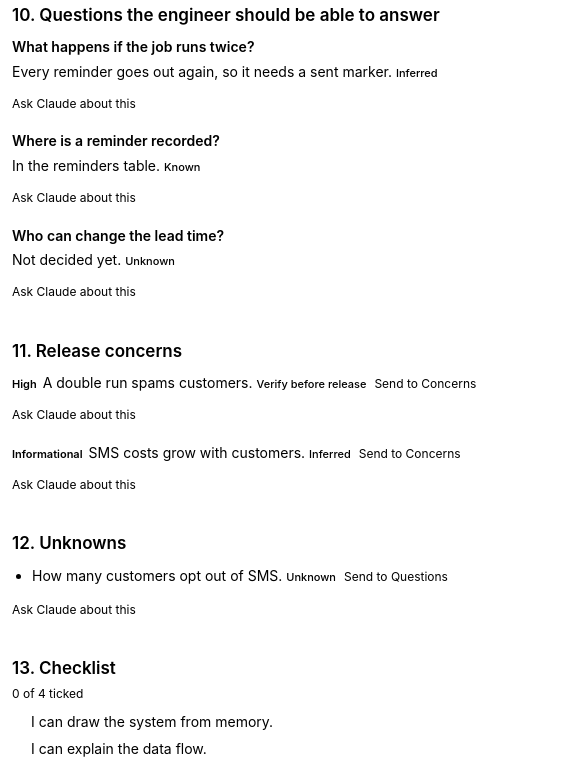
Study › sends a release concern to Concerns, and says why when it was refused
(page scrolled)
Click the button with test id "send-to-plumbing" in the row of "High": (425, 384) [374,374,476,394]
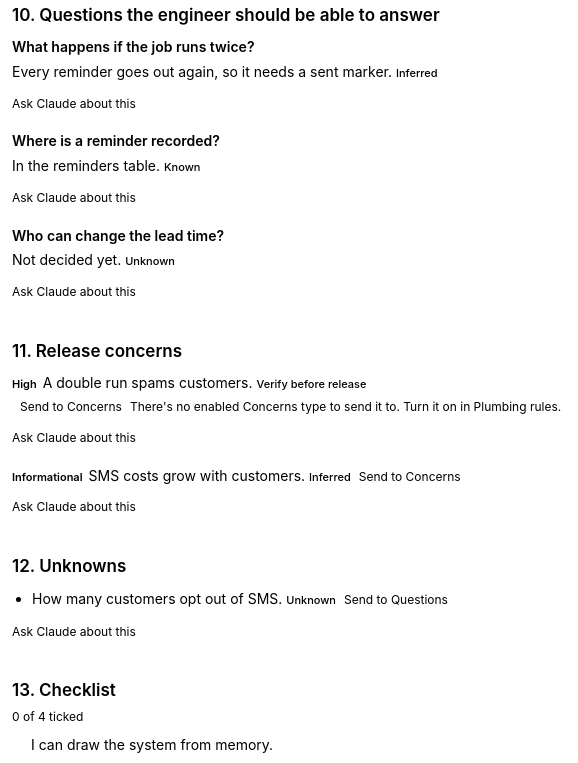
Check: the message reads "There's no enabled Concerns type to send it to. Turn it on in Plumbing rules.", box [130,399,561,414]
